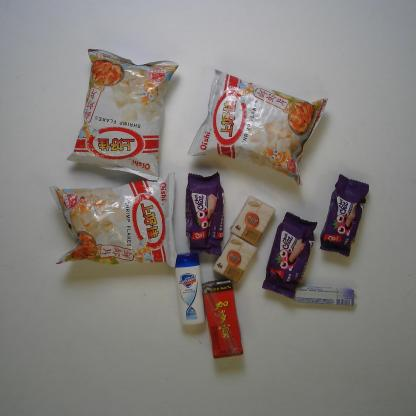Candy: (293, 284, 358, 307)
Dessert: (261, 209, 319, 300), (318, 172, 370, 258), (184, 169, 226, 256)
Drink: (201, 278, 245, 359)
Personal Hygiene: (174, 249, 206, 327)
Puffed Food: (187, 68, 330, 188), (64, 48, 182, 182), (48, 171, 179, 270)
Tissue: (229, 194, 277, 247), (211, 234, 259, 285)
